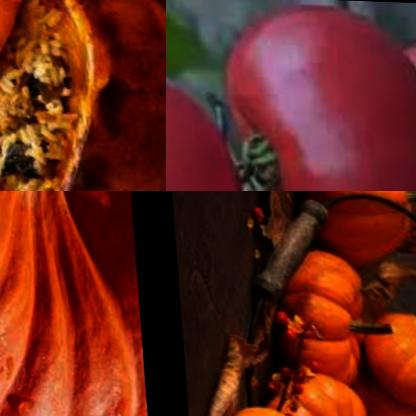pumpkin: (0, 191, 143, 416), (0, 0, 166, 191), (276, 235, 372, 386), (350, 289, 416, 413), (304, 191, 416, 262), (279, 368, 378, 416), (349, 377, 416, 416)
tomato: (205, 0, 416, 191), (166, 77, 284, 191)
